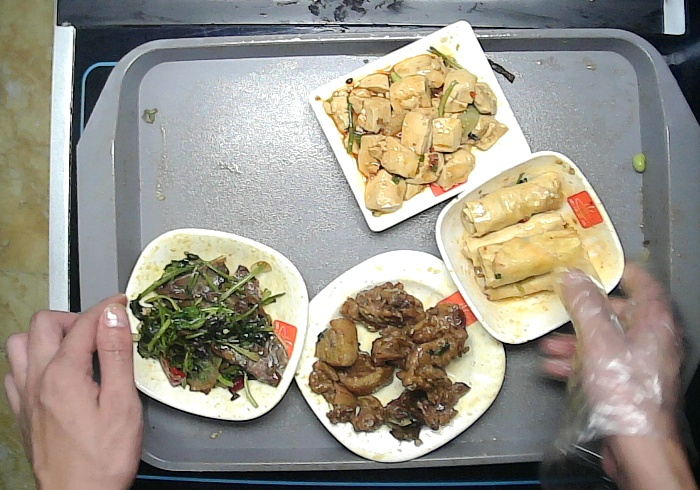SHKJ-Bai_Se_Cai_Die: (118, 228, 309, 419)
SHKJ-Bai_Se_Si_Fang_Cai_Die: (290, 247, 509, 461)
SHKJ-Bai_Se_Xiao_Fang_Die: (435, 149, 626, 345)
SHKJ-Si_Fang_Min: (308, 19, 531, 231)
